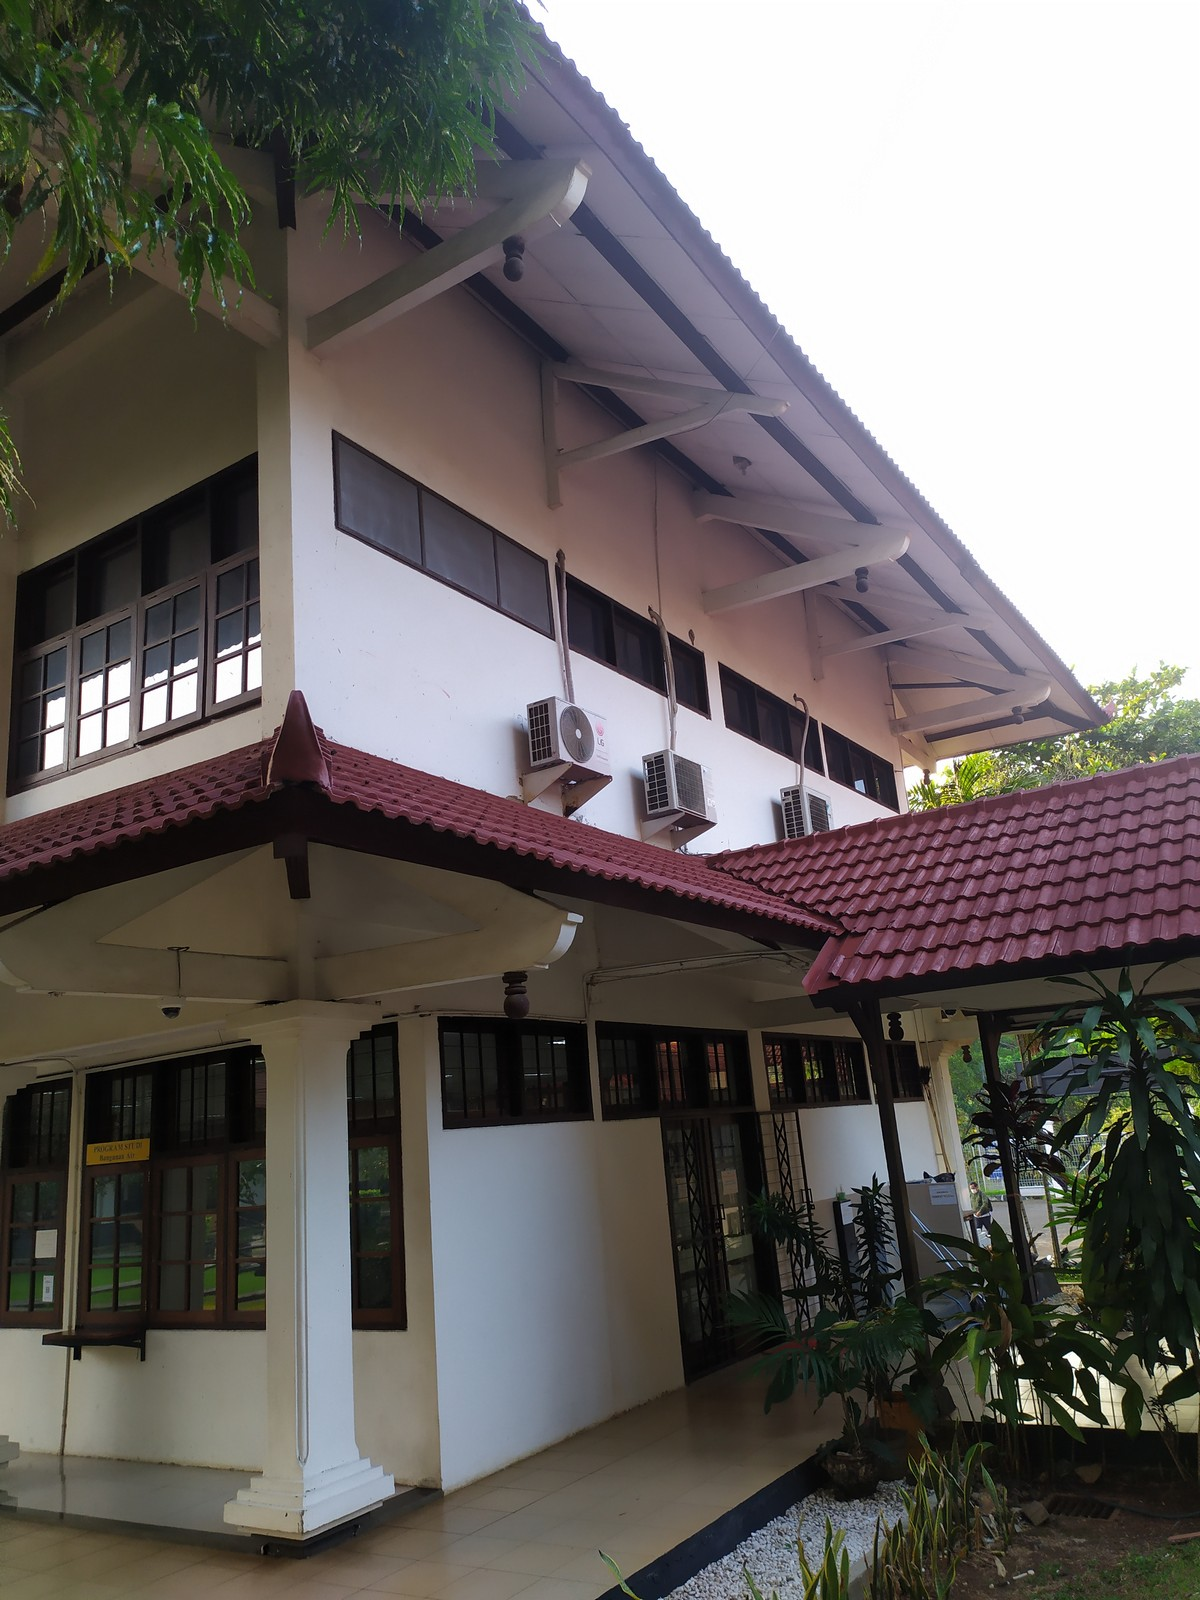concrete beam: (82, 936, 313, 1017), (321, 932, 541, 1003)
concrete column: (245, 208, 345, 722), (260, 1034, 367, 1463)
